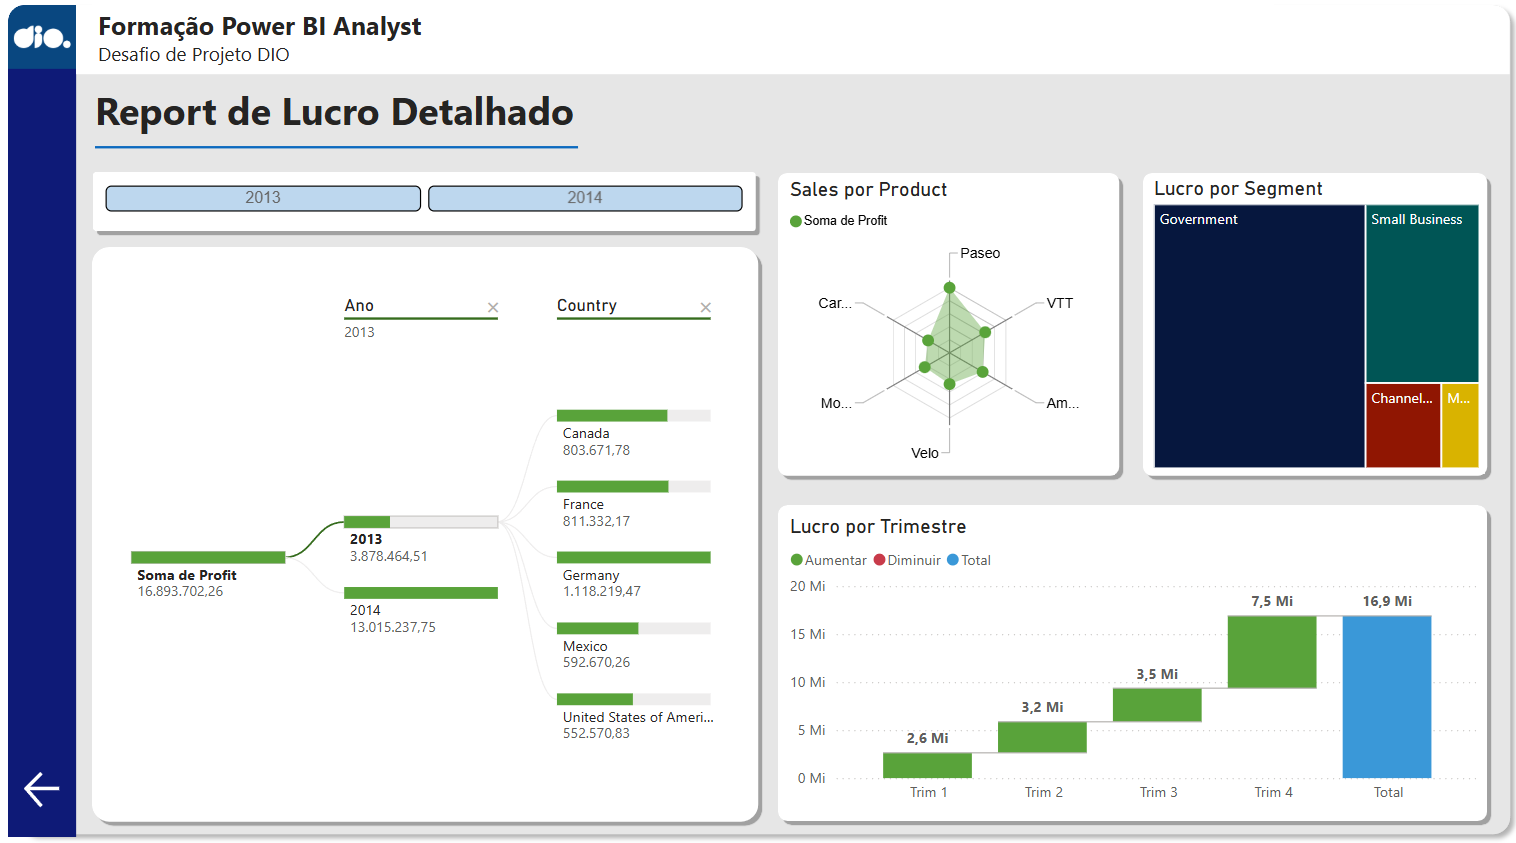

The page's visual inventory and layout, read from the dashboard file:
{"tool":"powerbi","page":{"name":"Página 2","canvas":[1280,720],"ordinal":1},"visuals":[{"type":"shape","box":[0,0,1280,720],"z":0},{"type":"shape","box":[73.8,112.5,408.7,34.2],"z":0,"group":"g1"},{"type":"textbox","box":[68.5,70.9,1145.8,65.6],"z":1000,"group":"g1"},{"type":"shape","box":[0,9,58,704],"z":1000},{"type":"shape","box":[0,8.9,57.8,54.4],"z":2000},{"type":"shape","box":[57.8,8.9,1213.3,58.9],"z":3000},{"type":"image","title":"logo_dio","box":[0,6.7,57.8,58.9],"z":4000},{"type":"textbox","box":[71.4,7.1,1000,60],"z":5000},{"type":"shape","box":[66.2,208.8,573.8,496.2],"z":6000},{"type":"shape","box":[646.2,146.2,298.8,266.2],"z":7000},{"type":"shape","box":[646.2,427.5,610,277.5],"z":8000},{"type":"RadarChart1446119667547","title":"Sales por Product","fields":{"Category":["financials.Product"],"Y":["Sum(financials.Profit)"]},"box":[656.4,154.5,280,251.8],"z":9000},{"type":"group","id":"g1","title":"Title report","box":[68.5,70.9,1145.8,75.8],"z":11000},{"type":"actionButton","box":[9,653,48,40],"z":12000},{"type":"shape","box":[955,146.2,301.2,266.2],"z":13000},{"type":"decompositionTreeVisual","fields":{"Analyze":["Sum(financials.Profit)"],"ExplainBy":["financials.Date.Variation.Hierarquia de datas.Ano","financials.Country"]},"box":[74.3,238.6,554.3,454.3],"z":14000},{"type":"treemap","title":"Lucro por Segment","fields":{"Group":["financials.Segment"],"Values":["Sum(financials.Profit)"]},"box":[964.6,153.8,285.4,252.3],"z":15000},{"type":"shape","box":[66.7,145.8,570.8,60],"z":17000},{"type":"ChicletSlicer1448559807354","fields":{"Category":["financials.Date.Variation.Hierarquia de datas.Ano"]},"box":[74.2,154.2,555,43.3],"z":18000},{"type":"waterfallChart","title":"Lucro por Trimestre","fields":{"Category":["financials.Date.Variation.Hierarquia de datas.Trimestre"],"Y":["Sum(financials.Profit)"]},"box":[656.2,440.1,594.3,253.4],"z":18001}]}

Visuals, with their boxes in screenshot pixels (x1, y1, x2, y2), scaled from the page's 1280x720 canvas onto the 1516x843 screenshot:
shape: l=0, t=0, r=1515, b=842
shape: l=87, t=132, r=571, b=172
textbox: l=81, t=83, r=1438, b=160
shape: l=0, t=11, r=69, b=835
shape: l=0, t=10, r=68, b=74
shape: l=68, t=10, r=1505, b=79
"logo_dio" image: l=0, t=8, r=68, b=77
textbox: l=85, t=8, r=1269, b=79
shape: l=78, t=244, r=758, b=825
shape: l=765, t=171, r=1119, b=483
shape: l=765, t=501, r=1488, b=825
"Sales por Product" RadarChart1446119667547: l=777, t=181, r=1109, b=476
"Title report" group: l=81, t=83, r=1438, b=172
actionButton: l=11, t=765, r=68, b=811
shape: l=1131, t=171, r=1488, b=483
decompositionTreeVisual - Sum(financials.Profit) x financials.Date.Variation.Hierarquia de datas.Ano: l=88, t=279, r=744, b=811
"Lucro por Segment" treemap: l=1142, t=180, r=1480, b=475
shape: l=79, t=171, r=755, b=241
ChicletSlicer1448559807354 - financials.Date.Variation.Hierarquia de datas.Ano: l=88, t=181, r=745, b=231
"Lucro por Trimestre" waterfallChart: l=777, t=515, r=1481, b=812
